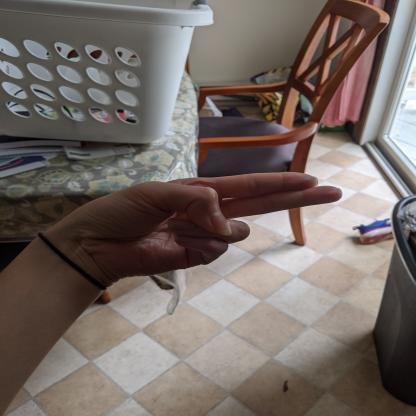H: (52, 167, 348, 283)
